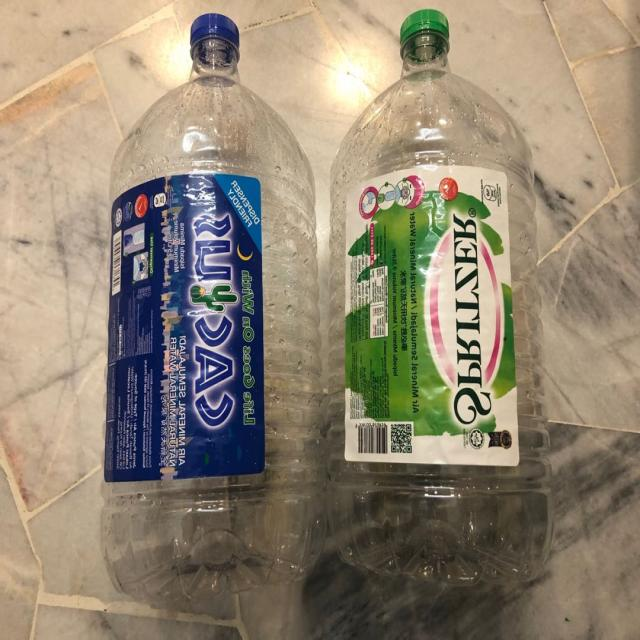plastic: (328, 5, 551, 592), (102, 13, 324, 600)
